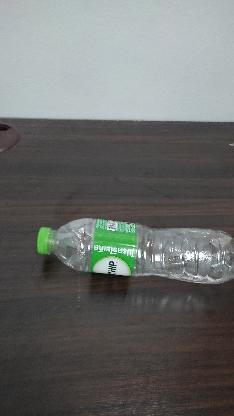Plastic Bottle: (30, 214, 234, 288)
